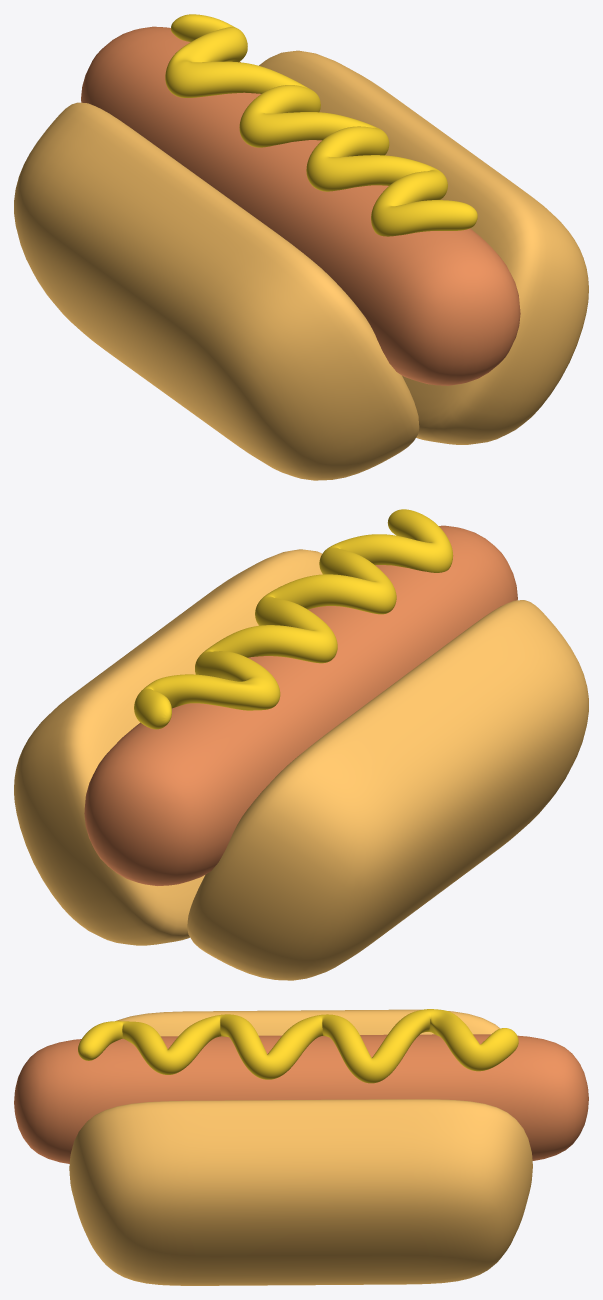
File: Perrito caliente.fbx
3 views of the same model, one above another, from view 1: azimuth 30°, elevation 25°; view 2: azimuth 150°, elevation 25°; view 3: azimuth 270°, elevation 25° (orthographic). The views are drawn at different scales.
Visible parts, largest first — view 1: Pan 2, Salchicha, Pan 1, Mostaza; view 2: Pan 2, Salchicha, Pan 1, Mostaza; view 3: Pan 1, Salchicha, Mostaza, Pan 2.
Boxes of the visible parts, bbox=[...] form: Pan 2: bbox=[14, 102, 419, 480]; Salchicha: bbox=[81, 26, 520, 385]; Pan 1: bbox=[259, 50, 588, 444]; Mostaza: bbox=[165, 14, 477, 236]; Pan 2: bbox=[187, 600, 588, 980]; Salchicha: bbox=[84, 525, 517, 885]; Pan 1: bbox=[14, 549, 322, 945]; Mostaza: bbox=[134, 509, 453, 729]; Pan 1: bbox=[69, 1099, 532, 1285]; Salchicha: bbox=[14, 1034, 588, 1163]; Mostaza: bbox=[78, 1009, 518, 1083]; Pan 2: bbox=[116, 1009, 499, 1036].
Size of the model in its own units: 8.78 by 6.38 by 14.45.
